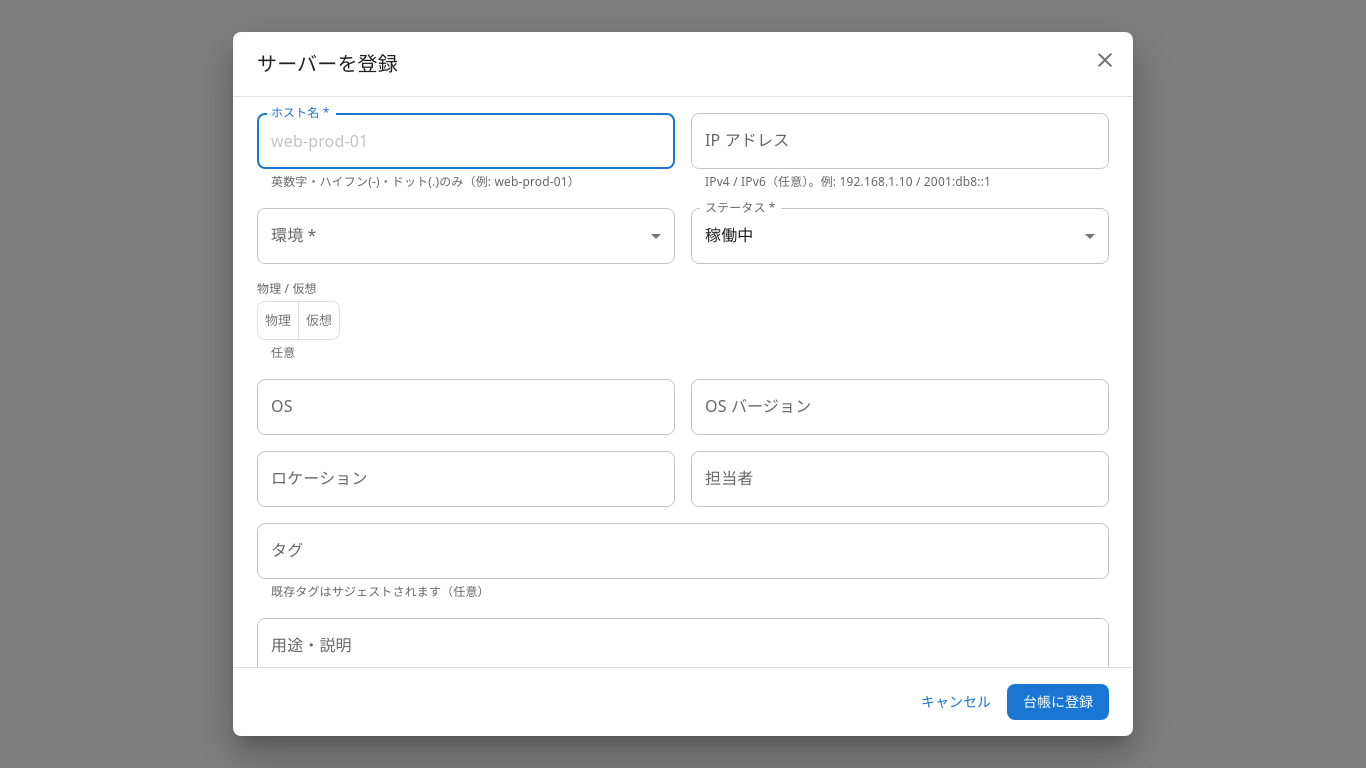
ServerFormModal (create) › 必須未入力で送信するとバリデーションエラーを出し API を呼ばない
Click the button "台帳に登録".
click(1058, 702)  # box [1007,684,1109,720]
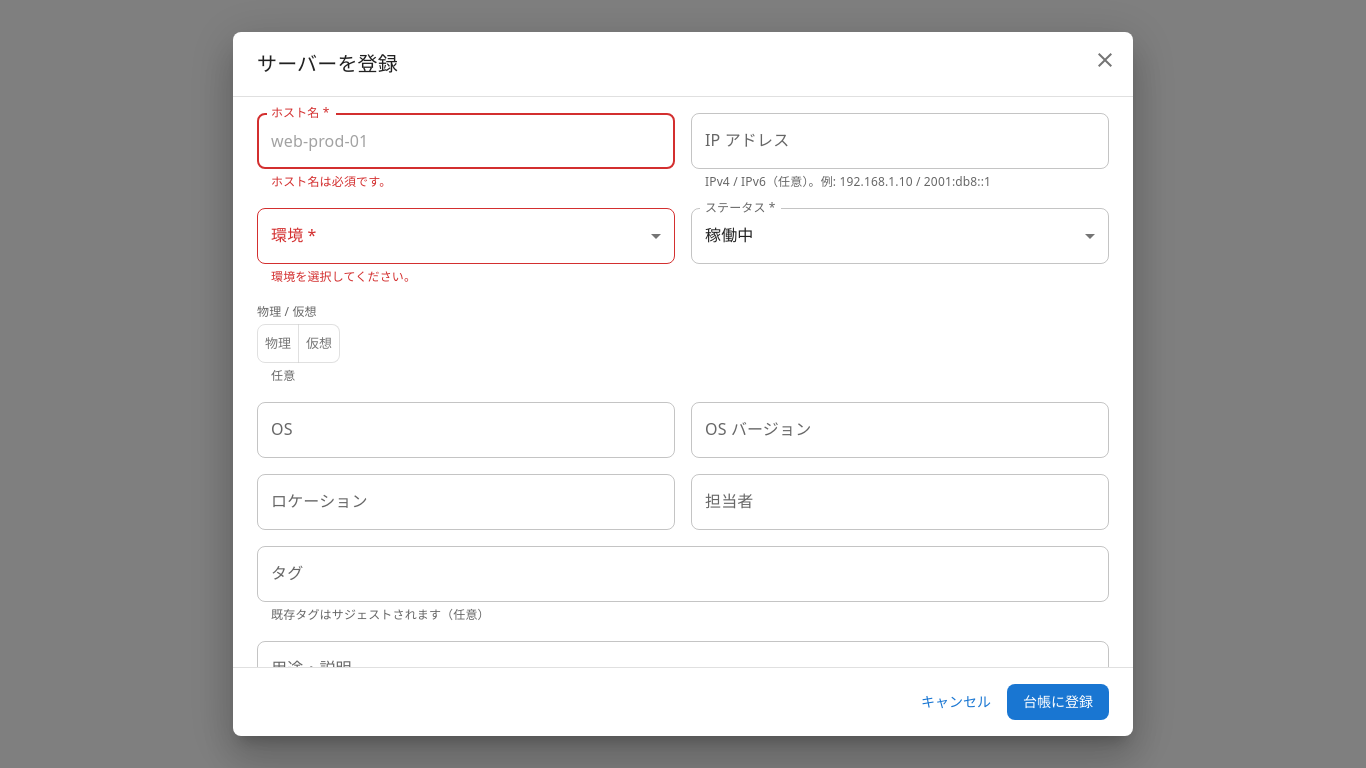
Result: the text "ホスト名は必須です。" is shown at [271,173,391,190]
Result: the text "環境を選択してください。" is shown at [271,268,416,285]
